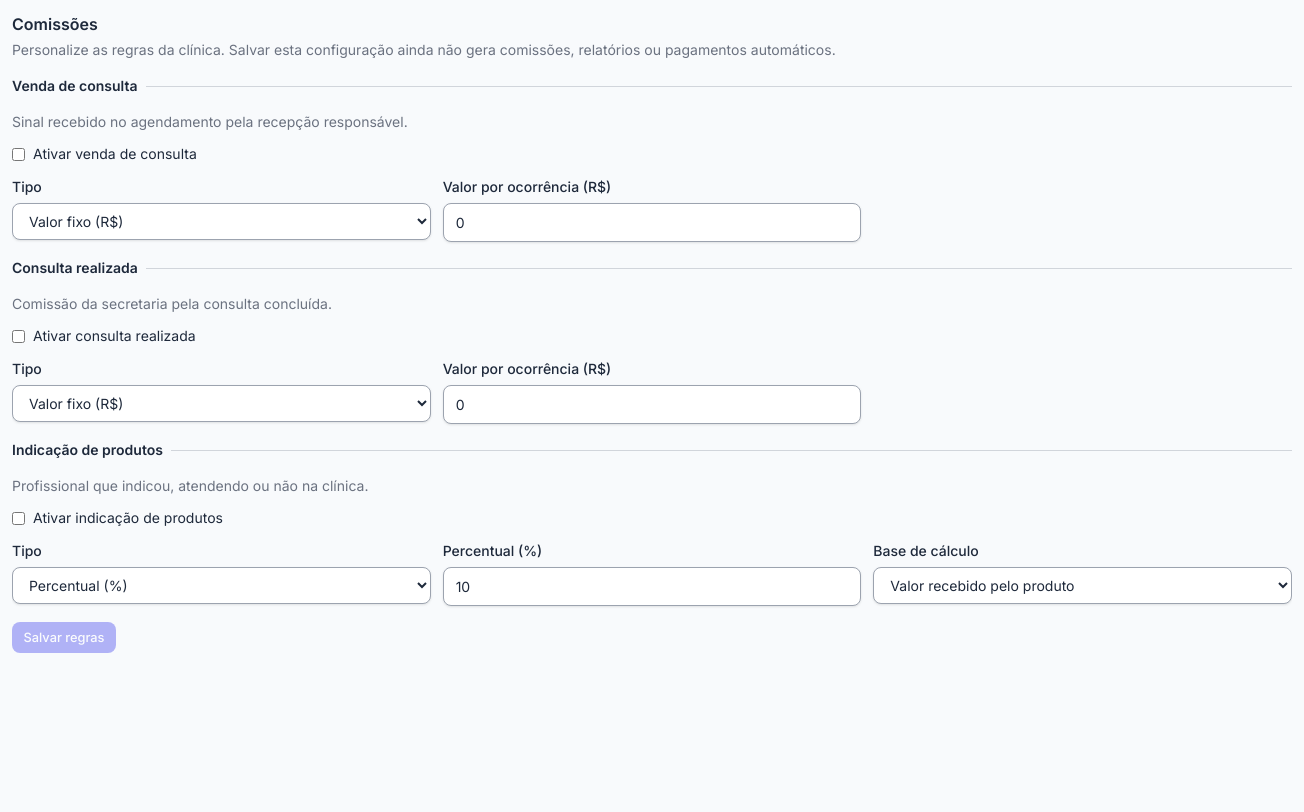
keeps edits after a save error and supports retry
Click the checkbox labelled "Ativar indicação de produtos": x=18, y=518 top-left (12, 512), bottom-right (25, 524)
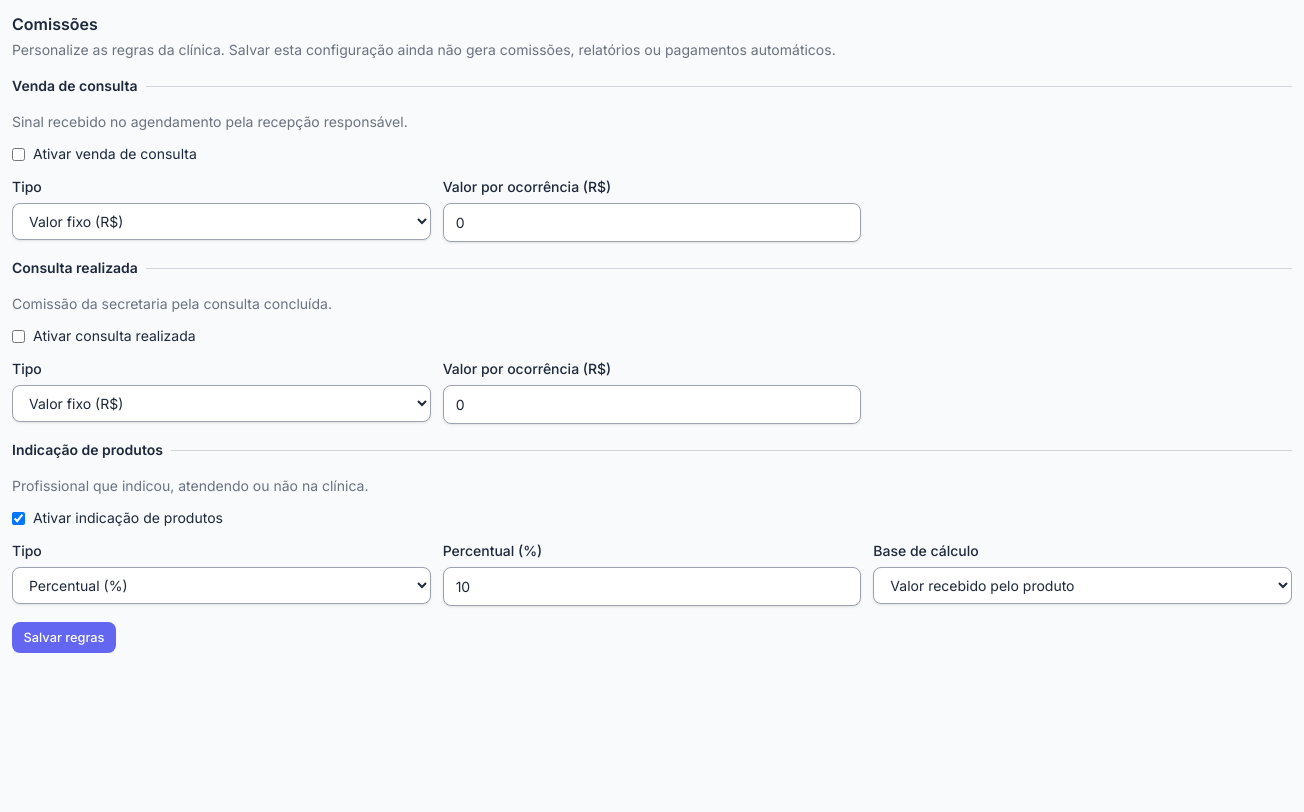
Click the button "Salvar regras": x=64, y=638 top-left (12, 622), bottom-right (116, 653)
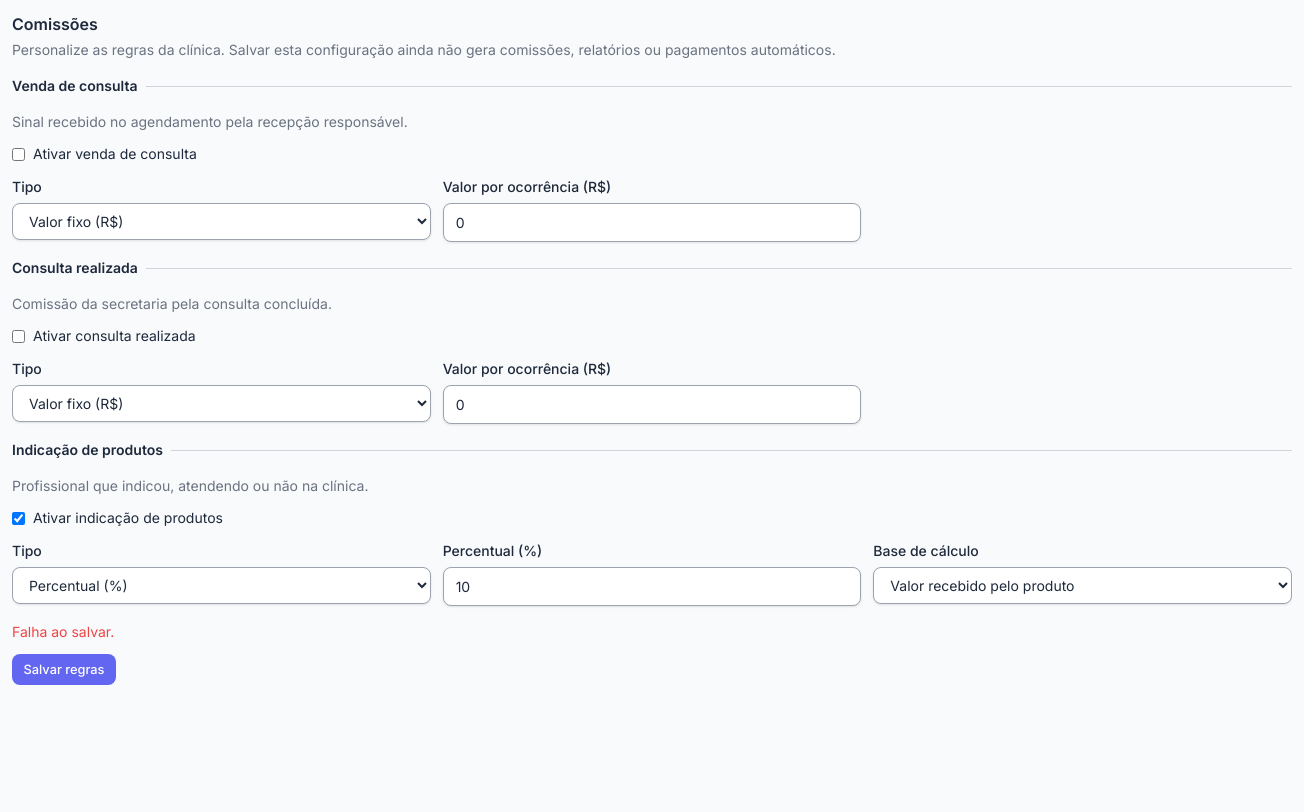
Check: the checkbox labelled "Ativar indicação de produtos" is checked, box top-left (12, 512), bottom-right (25, 524)
Check: the message reads "Falha ao salvar.", box top-left (12, 623), bottom-right (114, 640)
Click the button "Salvar regras": x=64, y=670 top-left (12, 654), bottom-right (116, 685)
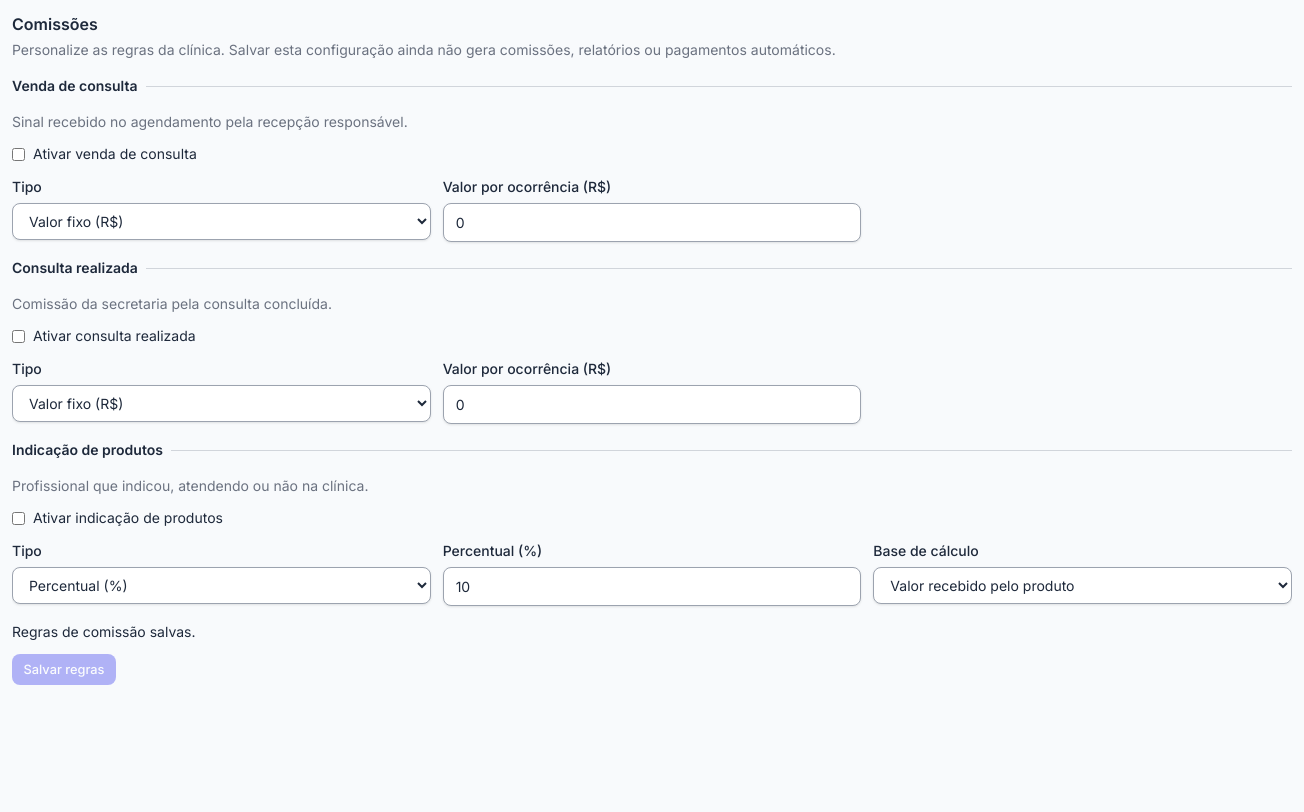
Check: the text "Regras de comissão salvas." is shown, box top-left (12, 623), bottom-right (196, 640)
